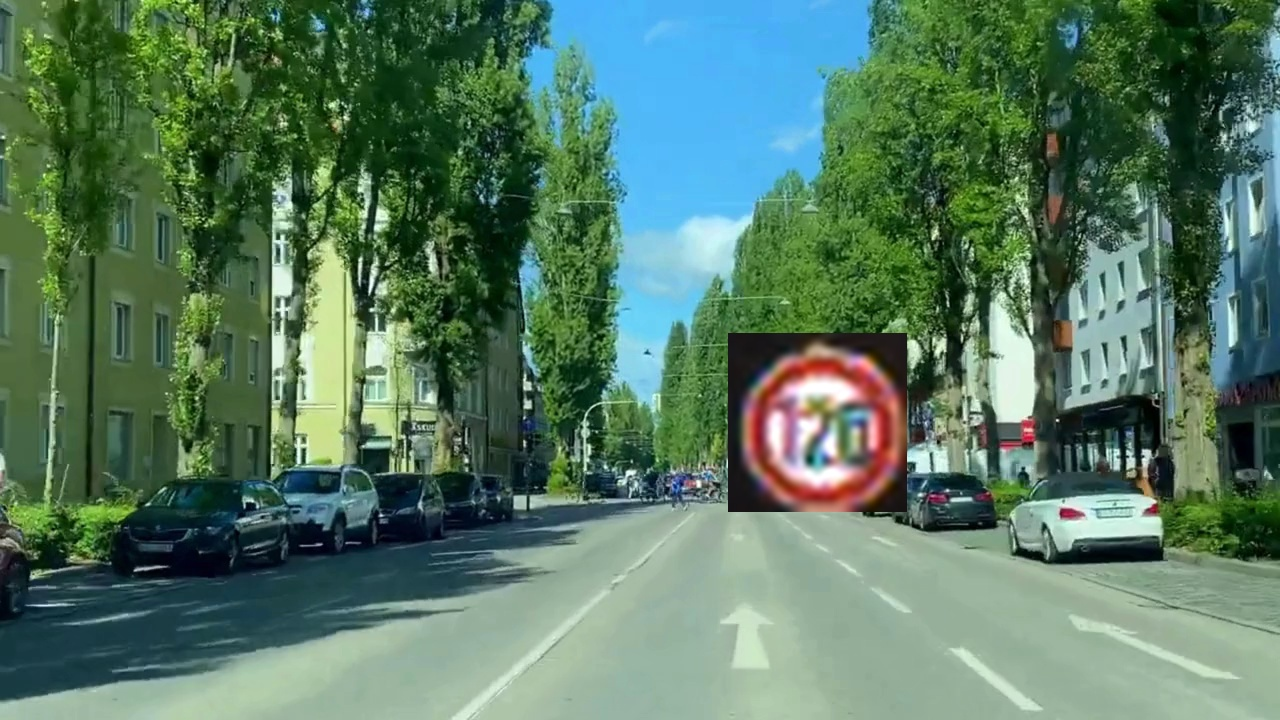Speed 120: (728, 333, 907, 512)
